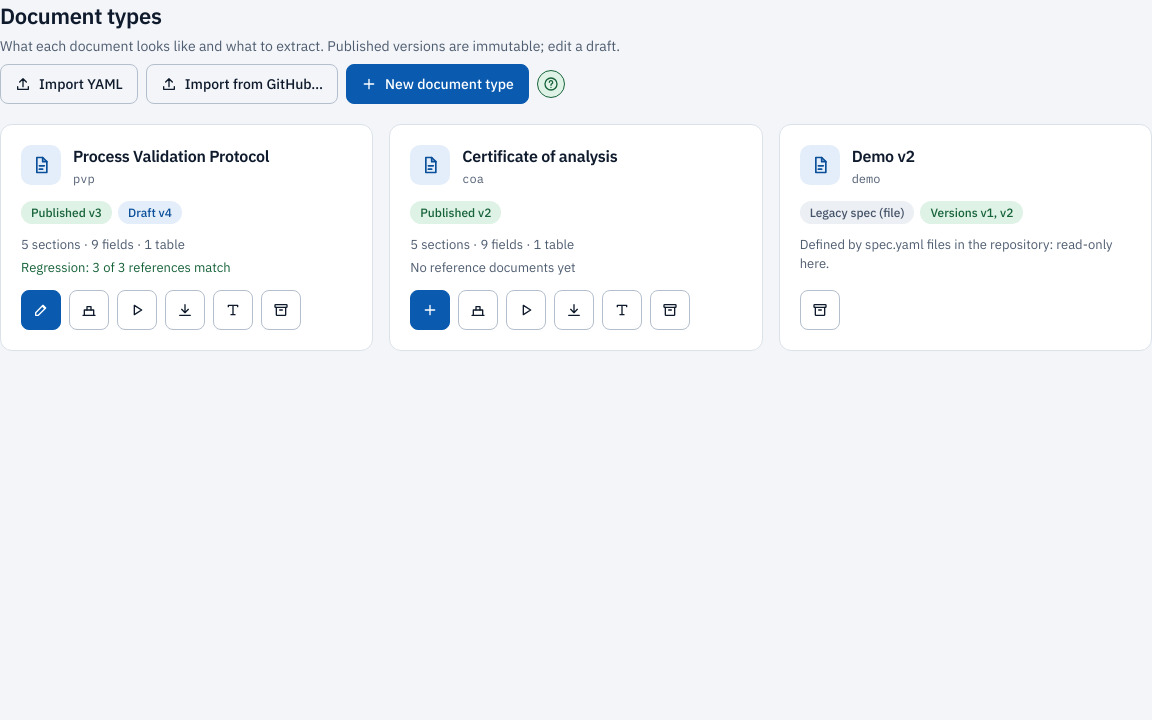
Test: TemplatesPage Retire… (admins, D10 and D15) › retires a recipe after the confirm; its card leaves the page
Click the button named "Retire Certificate of analysis…": coordinates (670, 310) 650,290 -> 690,330
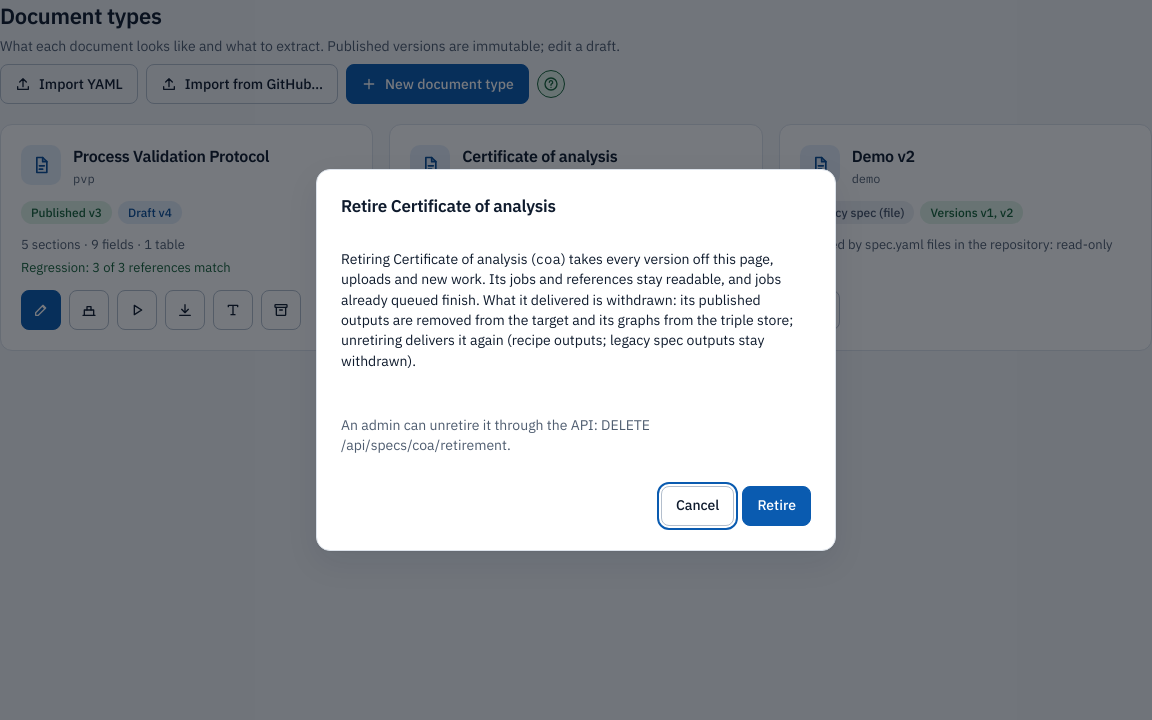
Result: the dialog "Retire Certificate of analysis" shows "What it delivered is withdrawn" at 341,250 -> 793,370
Result: the dialog "Retire Certificate of analysis" shows "unretiring delivers it again" at 341,250 -> 793,370
Result: the dialog "Retire Certificate of analysis" shows "DELETE /api/specs/coa/retirement" at 341,416 -> 650,454
Click the button "Retire": coordinates (777, 506) 742,486 -> 811,526
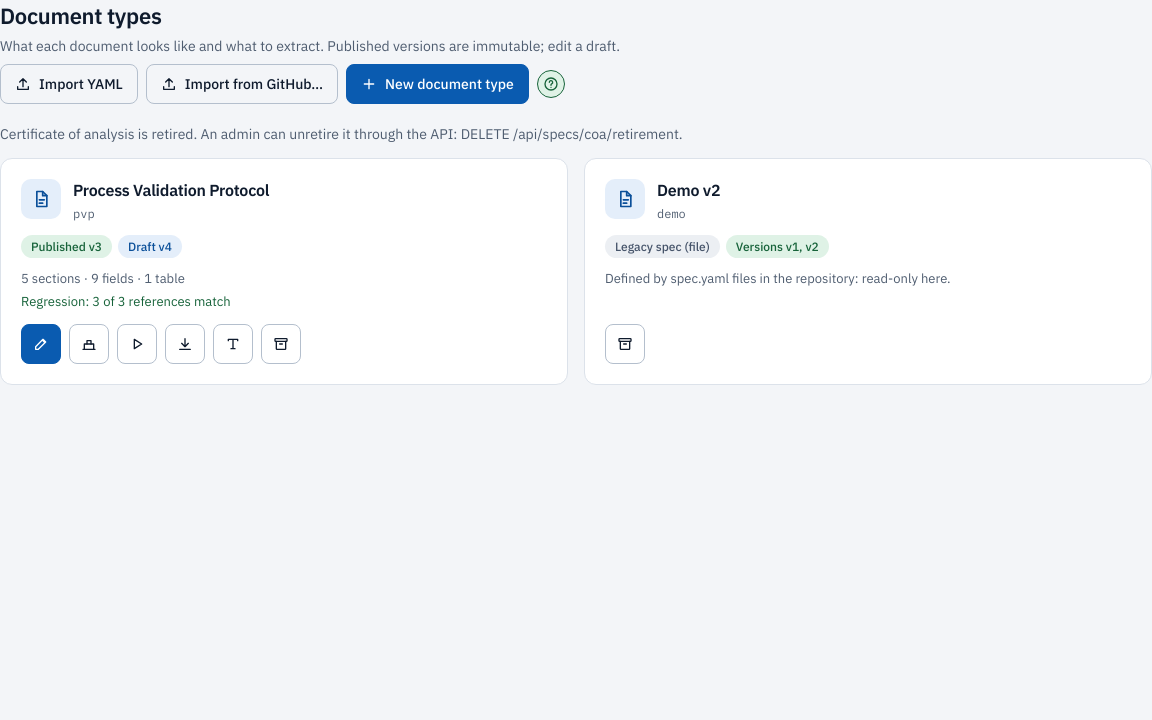
Result: the dialog is gone
Result: the message shows "Certificate of analysis is retired. An admin can unretire it through the API: DELETE /api/specs/coa/retirement." at 0,125 -> 683,143
